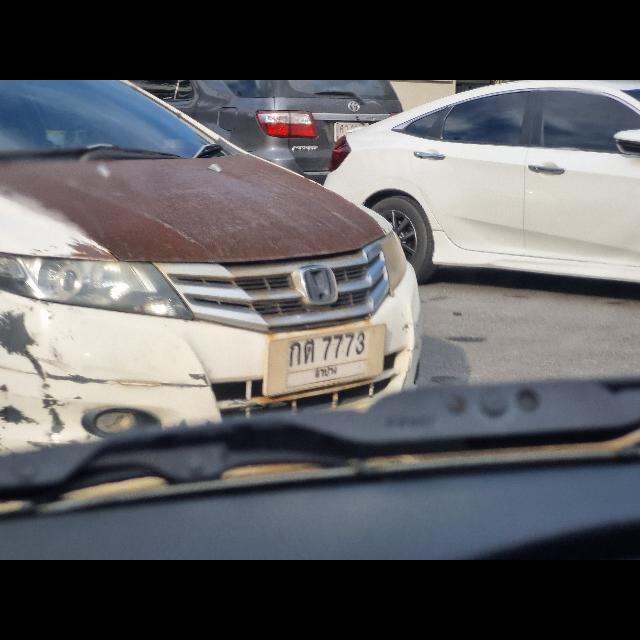licenseplate: (264, 324, 384, 398)
